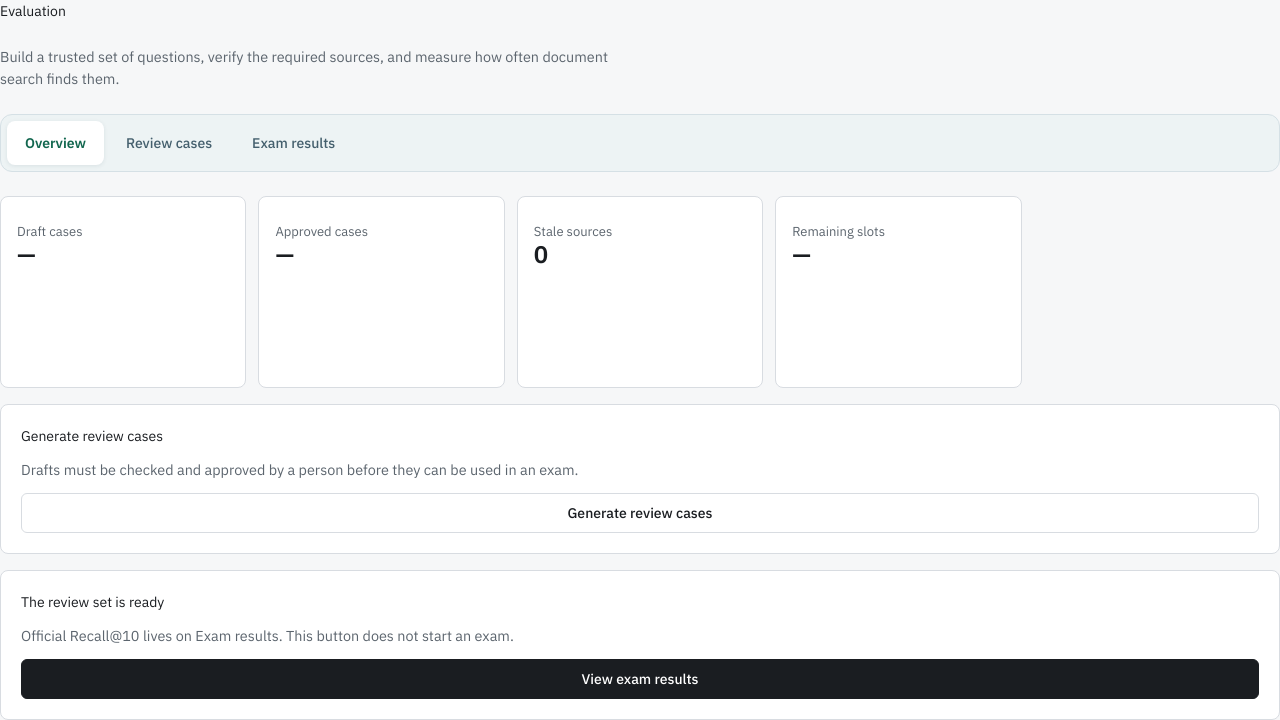
EvaluationPanel › defaults to Overview and keeps exam results on a separate task view
Expected: the tab "Overview" is shown, [7,121,104,165]
Expected: the button "Generate review cases" is shown, [21,493,1259,533]
What coordinates should you click on to do the following:
click the tab "Exam results"
I would click on:
 (294, 143)
Its box is [234,121,353,165].
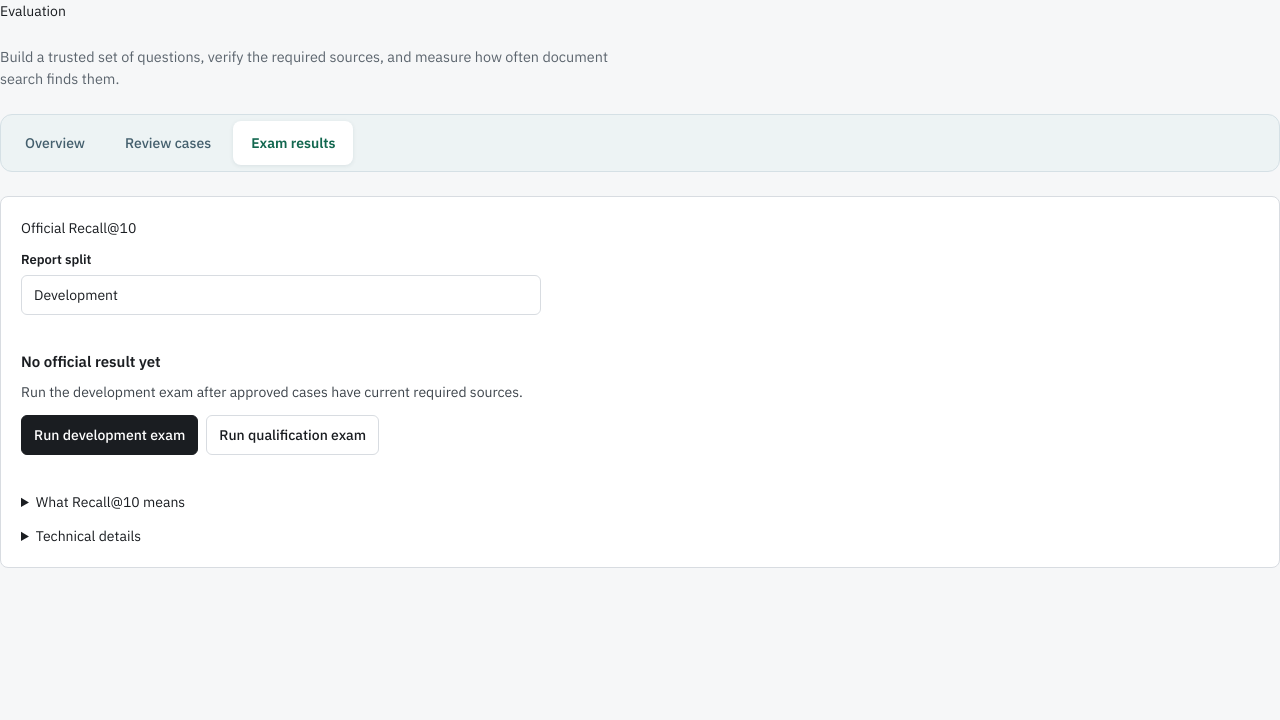
Expected: the heading "Official Recall@10" is shown, [21,219,136,237]
Expected: the button "Run development exam" is shown, [21,415,198,455]
